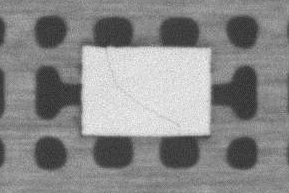DIE_CRACK: (105, 50, 178, 127)
